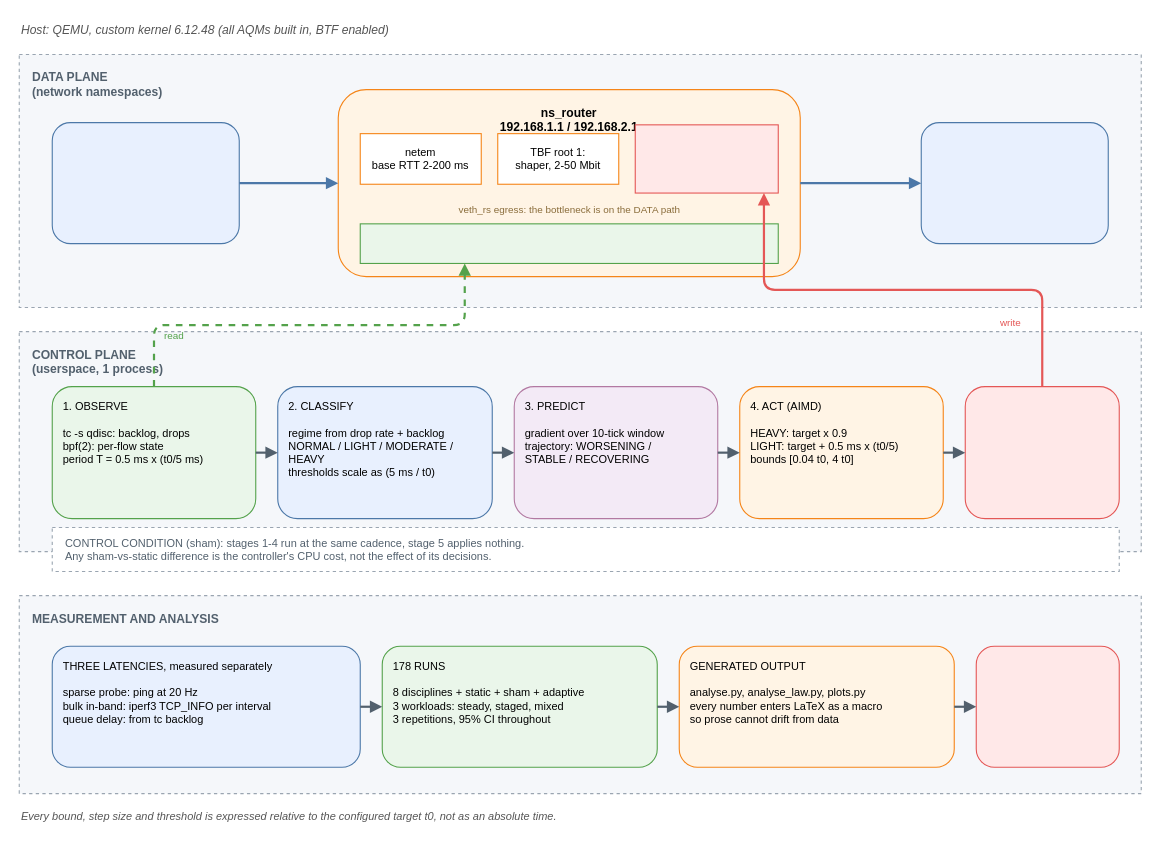
Some shapes in this 1161 by 843 pixel diagram are drawn without their labels. Here are the shapes that lost their labels. From the top down, the centre of each, then its label:
At pixel 706 158: "AQM under test 10: fq_codel | codel | PIE CAKE | FQ-PIE | RED | SFQ".
At pixel 145 183: "ns_client 192.168.1.2 iperf3: 8 bulk TCP CUBIC + sparse UDP probes".
At pixel 1014 183: "ns_server 192.168.2.2 iperf3 -s".
At pixel 568 243: "eBPF tc_monitor.o @ clsact egress LRU_HASH per-flow + PERCPU_ARRAY".
At pixel 1041 452: "5. APPLY tc qdisc change read back and verify log old / new / applied".
At pixel 1047 706: "RESULT b(r) = B / (1 + (r0/r)^k) B = 20.5% r0 = 0.50 R² = 0.986".
